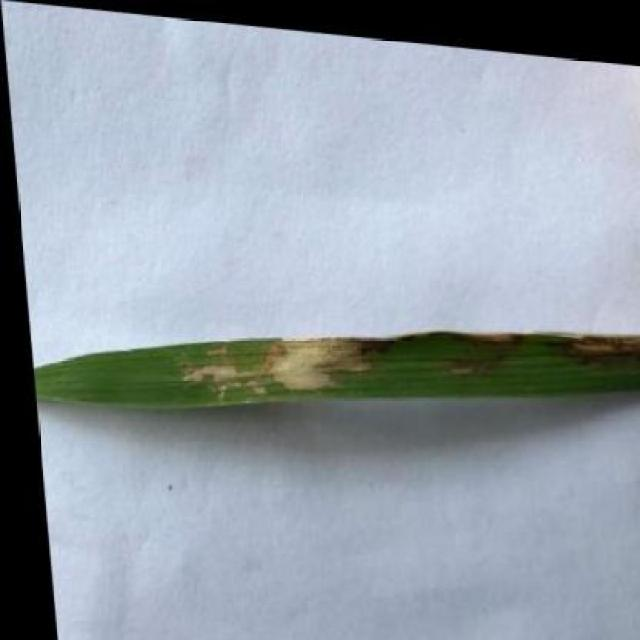Brown_Spot: (17, 262, 640, 458)
